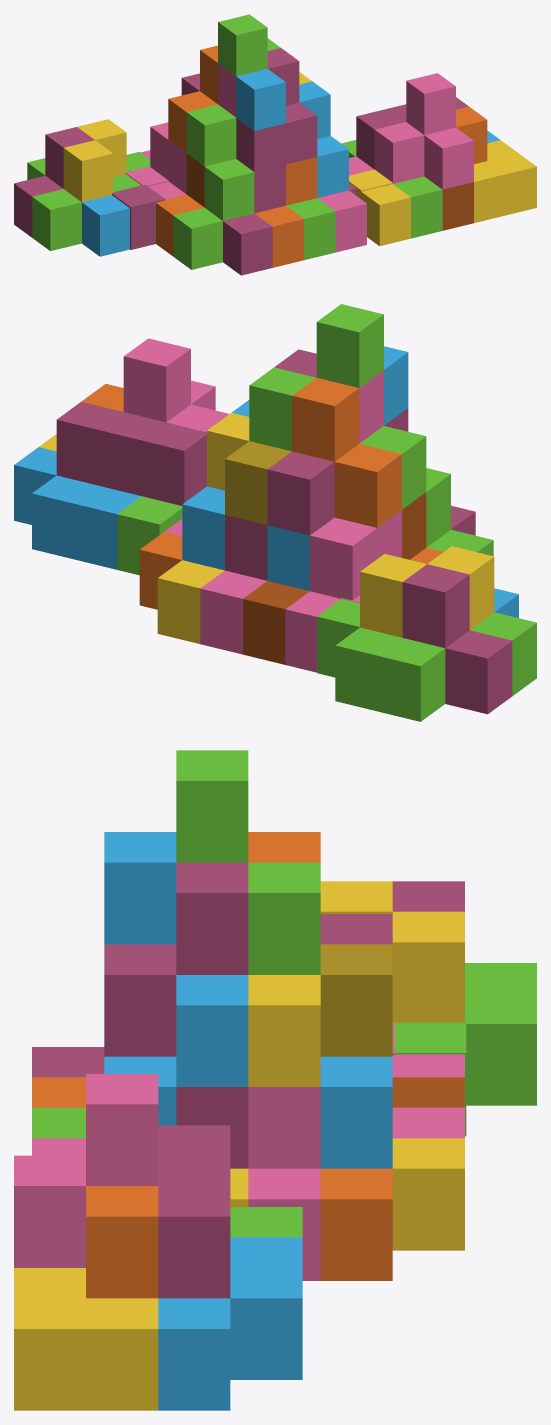
The model's file is DesertRocks.obj.
3 renders of one model, top to bottom at view 1: azimuth 30°, elevation 25°; view 2: azimuth 150°, elevation 25°; view 3: azimuth 270°, elevation 25°, orthographic. The views are drawn at different scales.
Parts seen in each view (by area): view 1: DesertRocks; view 2: DesertRocks; view 3: DesertRocks.
Part boxes in pixels (x1=…): DesertRocks: x1=14, y1=14, x2=536, y2=275; DesertRocks: x1=14, y1=304, x2=536, y2=721; DesertRocks: x1=14, y1=750, x2=536, y2=1410.
Bounding box in the file's own units: 26 × 12.5 × 14.5.
